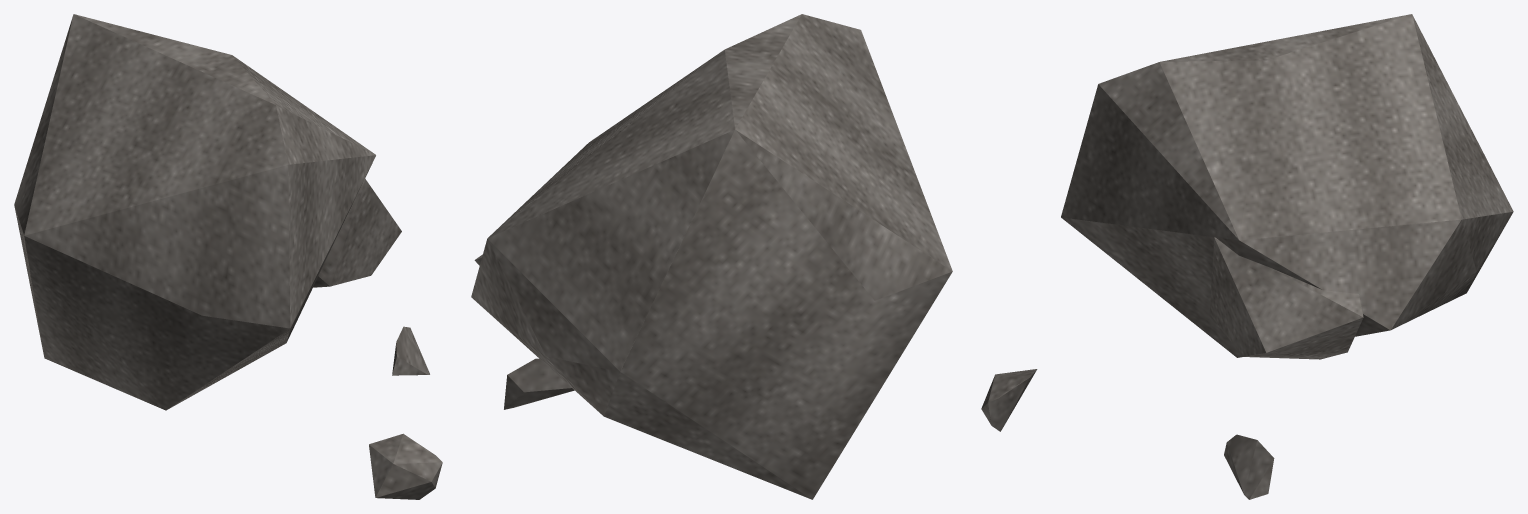
File: boulder_13.glb
3 renders of one model, left to right at view 1: azimuth 30°, elevation 25°; view 2: azimuth 150°, elevation 25°; view 3: azimuth 270°, elevation 25°, orthographic. The views are drawn at different scales.
Visible parts, largest first — view 1: boulder_13_c0; view 2: boulder_13_c0; view 3: boulder_13_c0.
Boxes of the visible parts, left/top/right/bottom form: boulder_13_c0: left=14, top=14, right=442, bottom=499; boulder_13_c0: left=471, top=14, right=952, bottom=499; boulder_13_c0: left=981, top=14, right=1513, bottom=499.
Size of the model in its own units: 2.51 by 2.25 by 3.05.
1 material, 1 textured.
